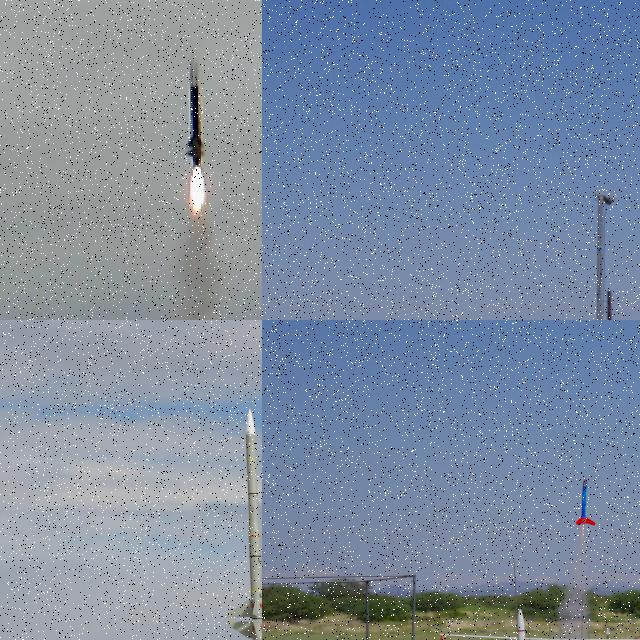Rocket: (226, 406, 262, 640), (184, 51, 205, 167), (575, 476, 597, 526)
